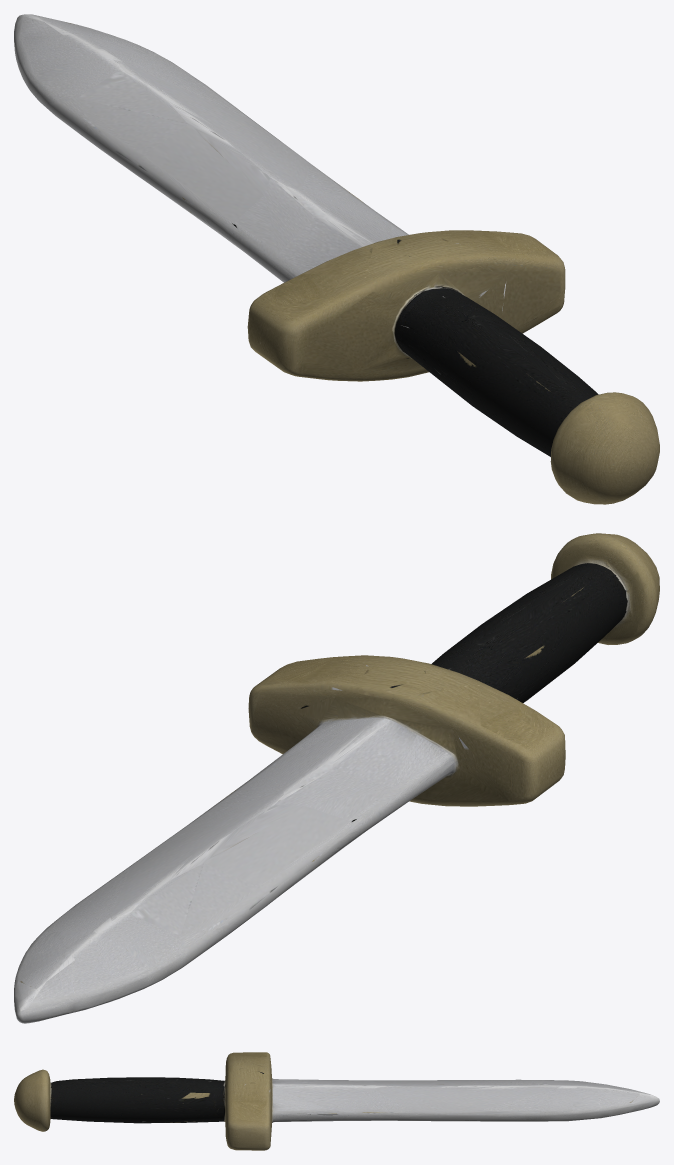
Rendered from KairoSword.glb.
3 renders of one model, top to bottom at view 1: azimuth 30°, elevation 25°; view 2: azimuth 150°, elevation 25°; view 3: azimuth 270°, elevation 25°, orthographic. The views are drawn at different scales.
Visible parts, largest first — view 1: KairoSword; view 2: KairoSword; view 3: KairoSword.
Boxes of the visible parts, box(x1,y1,x2,y2) form: KairoSword: box(14, 14, 659, 504); KairoSword: box(14, 533, 659, 1023); KairoSword: box(14, 1052, 659, 1150).
Bounding box in the file's own units: 0.9298 × 0.3472 × 3.4.
Materials: 1 (1 with a texture image).
